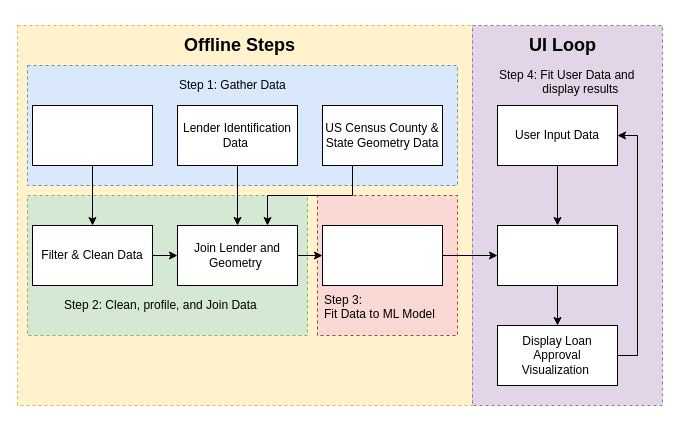
Some shapes in this 680 by 423 pixel diagram are drawn without their labels. The centre of each missing label's shape, as x and y in pixels:
"HMDA Loan Data" belongs at point (92, 135).
"Predict User Demographic Probabilities" belongs at point (557, 255).
"Transform and Fit Classification Model" belongs at point (382, 255).
